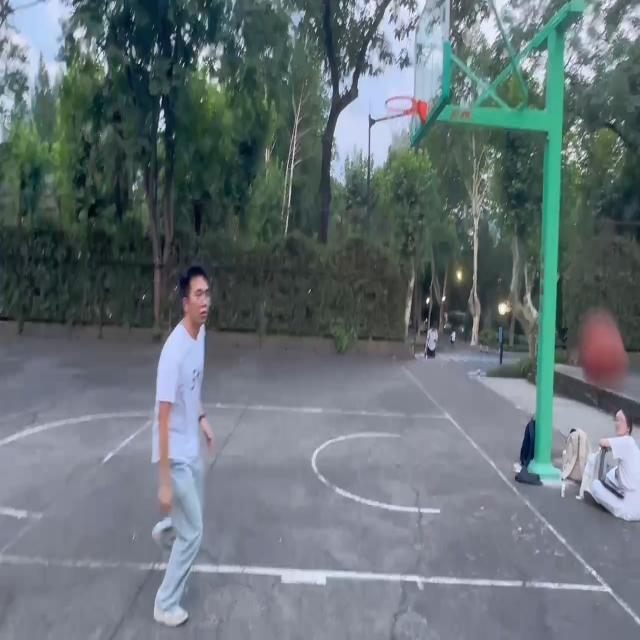basketball: (386, 96, 428, 150)
rim: (582, 314, 626, 387)
